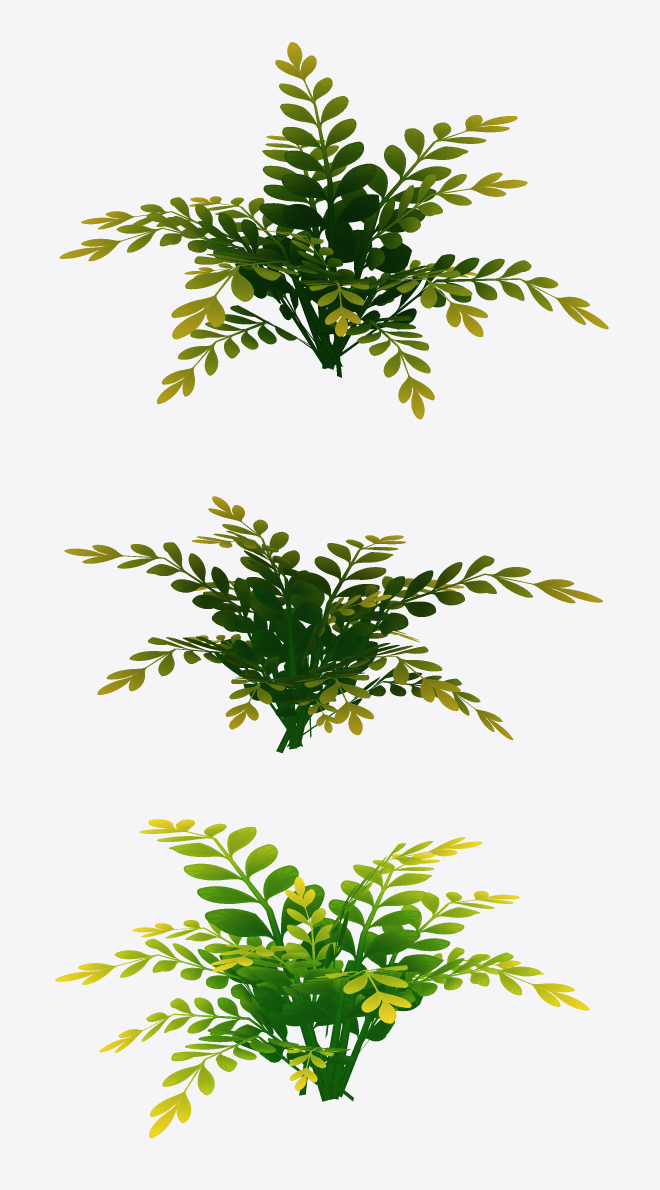
The model's file is Bush_02.FBX.
3 views of the same model, one above another, from view 1: azimuth 30°, elevation 25°; view 2: azimuth 150°, elevation 25°; view 3: azimuth 270°, elevation 25° (orthographic). The views are drawn at different scales.
Visible parts, largest first — view 1: Bush_02; view 2: Bush_02; view 3: Bush_02.
Part boxes in pixels (x1,y1,x2,y2): Bush_02: (59,42,608,419); Bush_02: (64,496,602,753); Bush_02: (55,819,589,1138).
Bounding box in the file's own units: 94.08 × 43.34 × 88.3.
